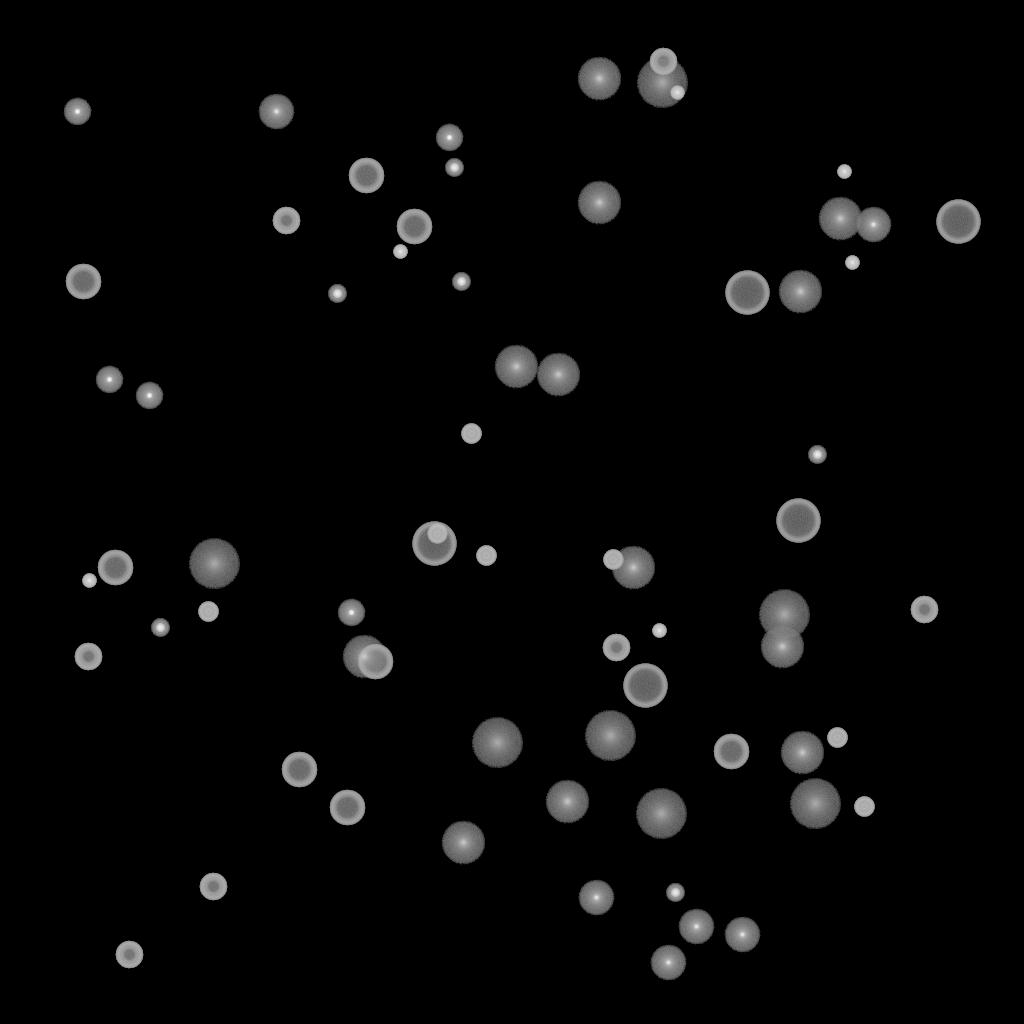depth:-10: (337, 599, 365, 627), (95, 366, 123, 394), (435, 124, 463, 152), (63, 98, 91, 126), (135, 382, 163, 410)
depth:-20: (151, 619, 169, 637), (445, 159, 463, 177), (666, 884, 684, 902), (808, 446, 826, 464), (452, 273, 470, 291), (328, 285, 346, 303)
depth:-30: (393, 245, 407, 259), (837, 165, 851, 179), (652, 624, 666, 638), (82, 574, 96, 588), (670, 86, 684, 100), (845, 256, 859, 270)
depth:-40: (476, 546, 496, 566), (827, 728, 847, 748), (198, 602, 218, 622), (461, 424, 481, 444), (427, 524, 447, 544), (854, 797, 874, 817), (603, 550, 623, 570)
depth:-50: (272, 207, 300, 235), (649, 48, 677, 76), (199, 873, 227, 901), (602, 634, 630, 662), (74, 643, 102, 671), (115, 941, 143, 969), (910, 596, 938, 624)
depth:-60: (713, 734, 749, 770), (65, 264, 101, 300), (281, 752, 317, 788), (329, 790, 365, 826), (97, 550, 133, 586), (348, 158, 384, 194), (396, 209, 432, 245), (357, 644, 393, 680)
depth:-70: (776, 499, 820, 543), (623, 664, 667, 708), (412, 522, 456, 566), (936, 200, 980, 244), (725, 271, 769, 315)
depth:0: (678, 909, 714, 945), (855, 207, 891, 243), (650, 945, 686, 981), (724, 917, 760, 953), (578, 880, 614, 916), (258, 94, 294, 130)
depth:10: (536, 353, 580, 397), (545, 780, 589, 824), (780, 731, 824, 775), (494, 345, 538, 389), (611, 546, 655, 590), (342, 635, 386, 679), (818, 197, 862, 241), (760, 625, 804, 669), (441, 821, 485, 865), (778, 270, 822, 314), (577, 57, 621, 101), (577, 181, 621, 225)
depth:20: (188, 539, 240, 589), (789, 779, 841, 829), (584, 711, 636, 761), (636, 58, 688, 108), (471, 718, 523, 768), (635, 789, 687, 839), (758, 590, 810, 640)
